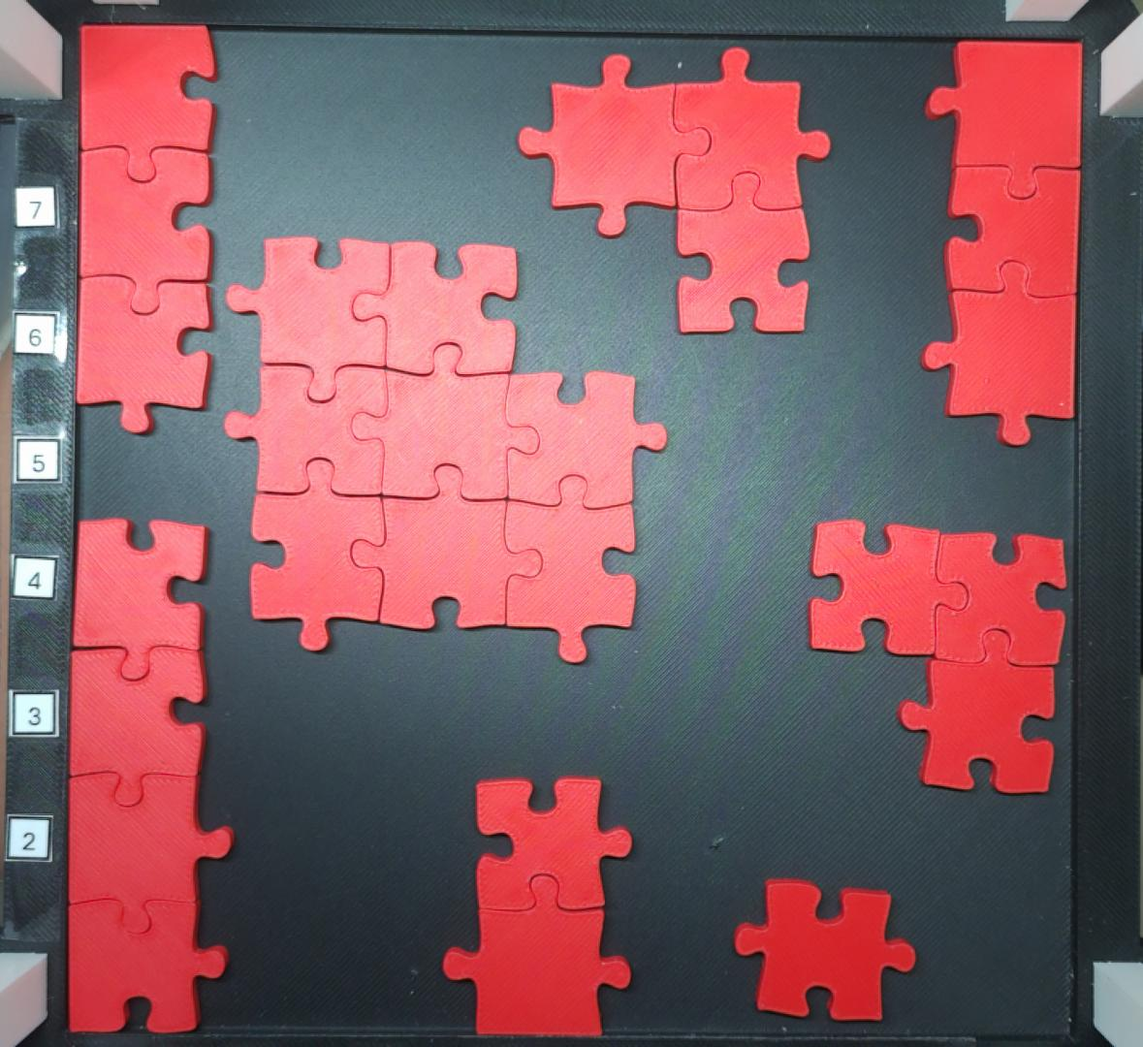p_1: (732, 876, 919, 1025)
p_2: (437, 773, 637, 1038)
p_3: (516, 45, 834, 336), (806, 517, 1069, 797), (919, 37, 1085, 449), (77, 21, 218, 437)
p_4: (63, 513, 238, 1035)
p_m: (222, 235, 671, 666)
